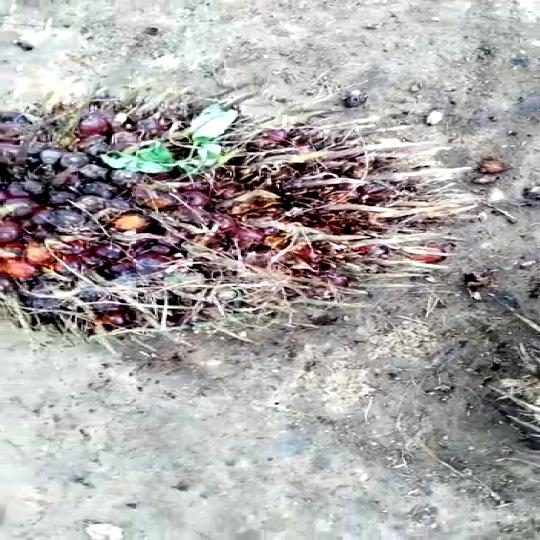masak: (0, 95, 489, 355)
